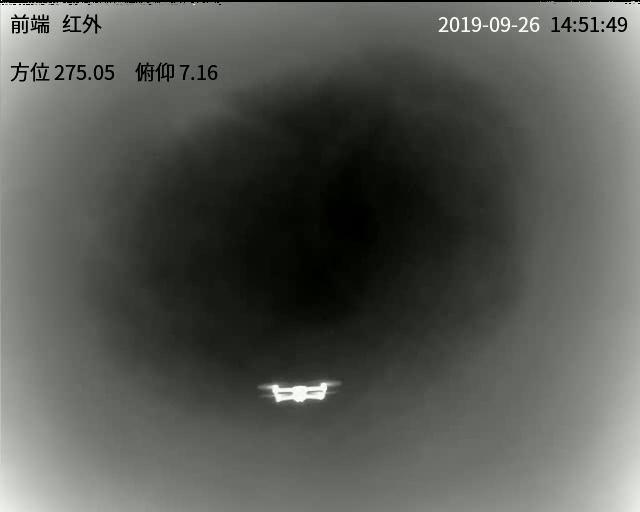DRONE: (259, 379, 337, 403)
